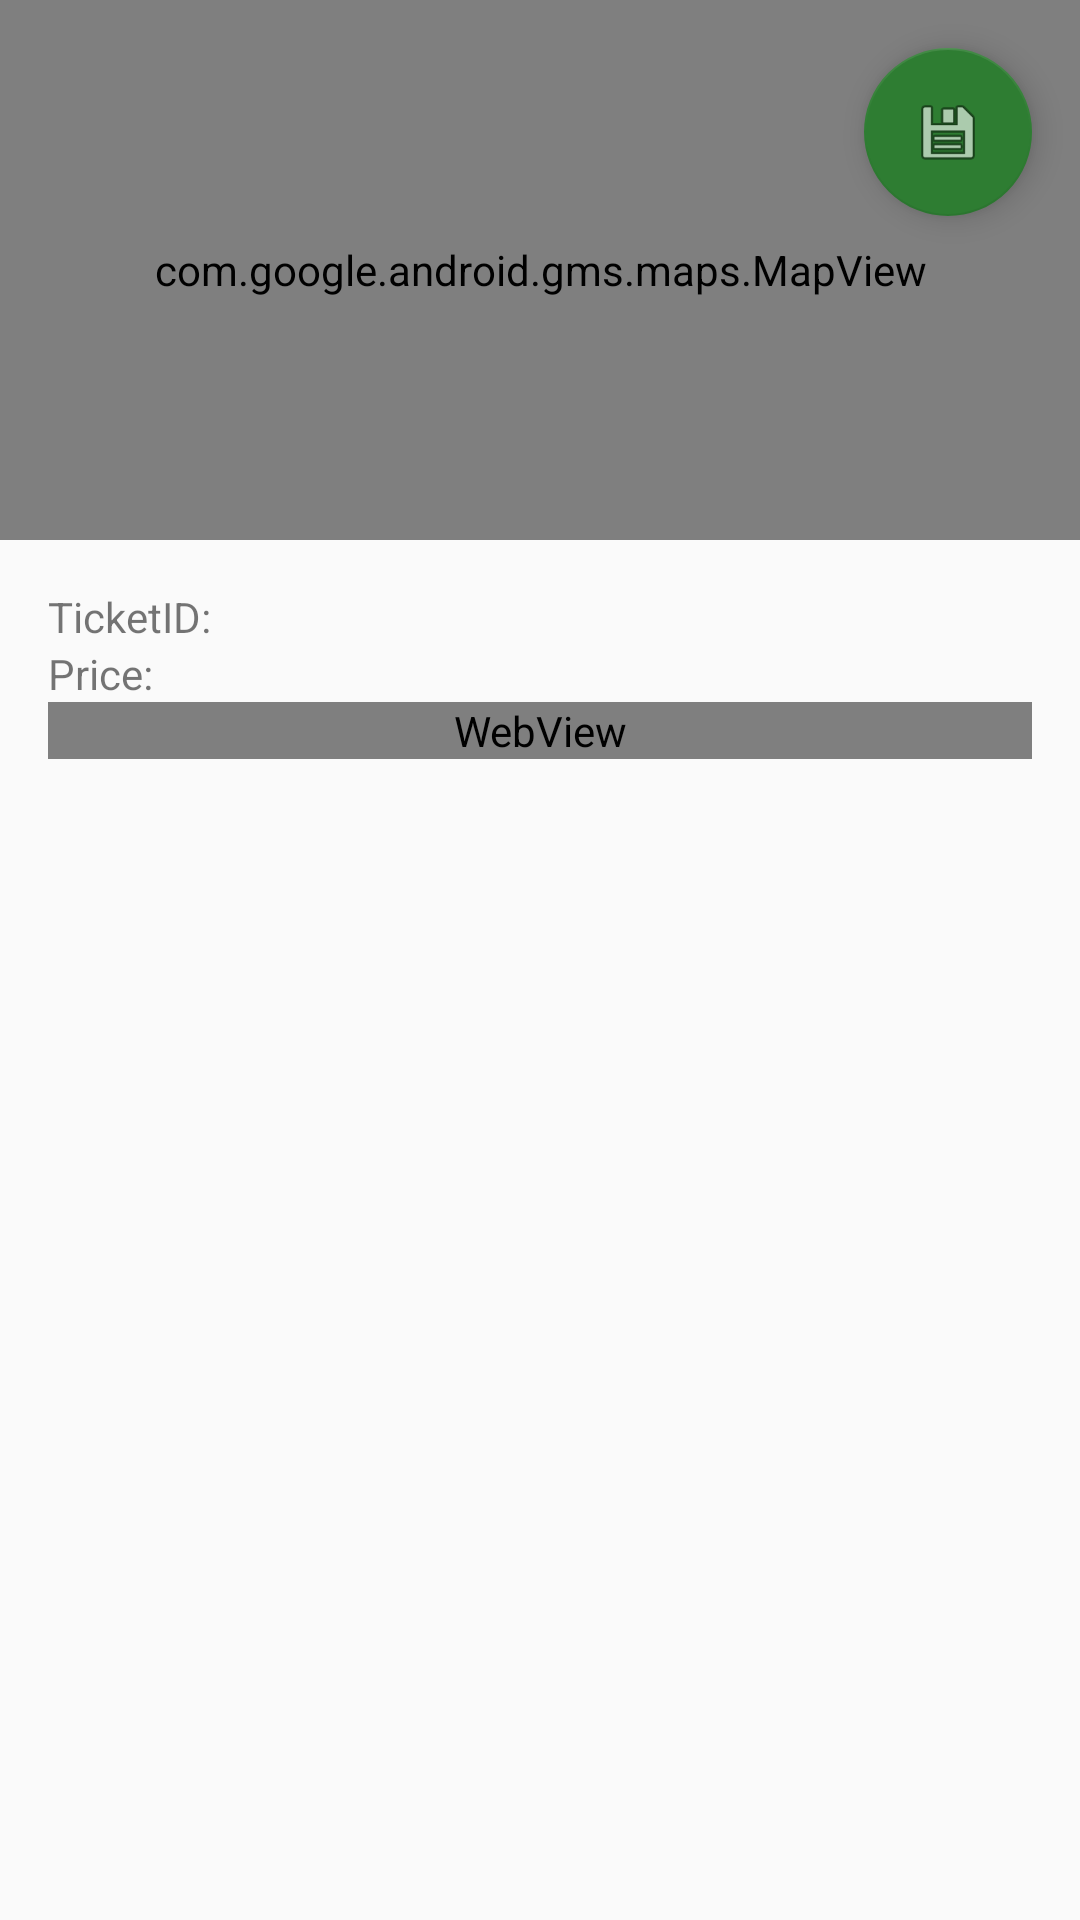

Where icons sit on this 1080x1920 app screen, as box=[x1, y1, x2, y2]:
save: box=[864, 48, 1032, 216]
